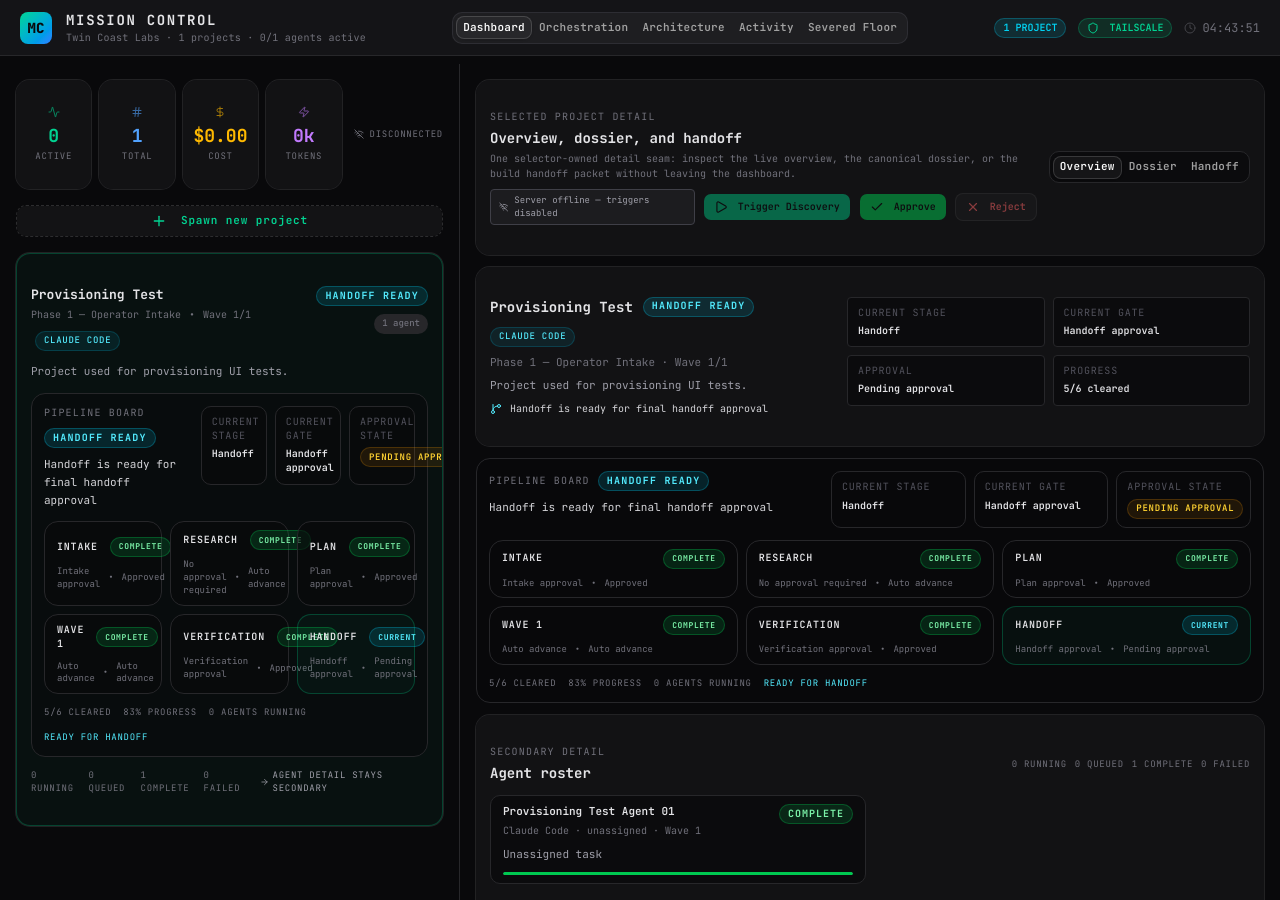
Test: Provisioning UI in HandoffPanel › confirmation dialog › shows the file list in the confirmation dialog
Step 1. Click the tab "Handoff" → (1215, 167), box top-left (1184, 156), bottom-right (1246, 179)
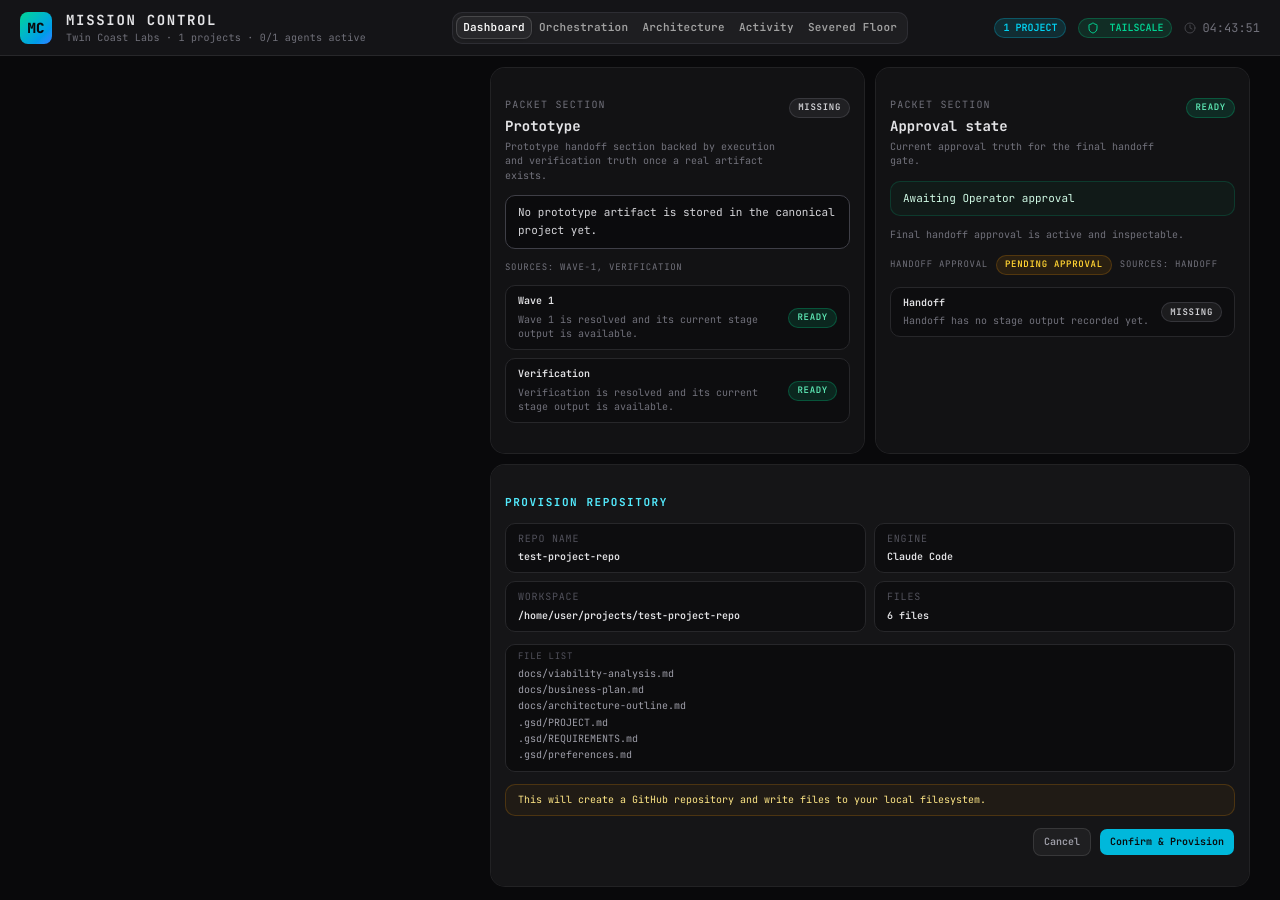
expect the element with test id "provisioning-plan-files" is shown: met, box top-left (518, 667), bottom-right (686, 761)
expect the text "docs/viability-analysis.md" is shown: met, box top-left (518, 667), bottom-right (674, 680)
expect the text ".gsd/PROJECT.md" is shown: met, box top-left (518, 716), bottom-right (608, 729)
